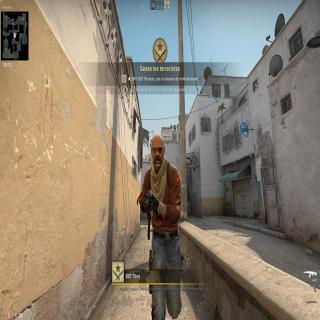T-Head: (150, 131, 167, 170)
